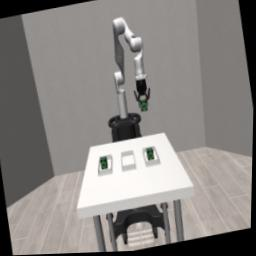cube1: (101, 157, 109, 170)
cube2: (140, 101, 149, 114)
cube3: (146, 148, 155, 162)
